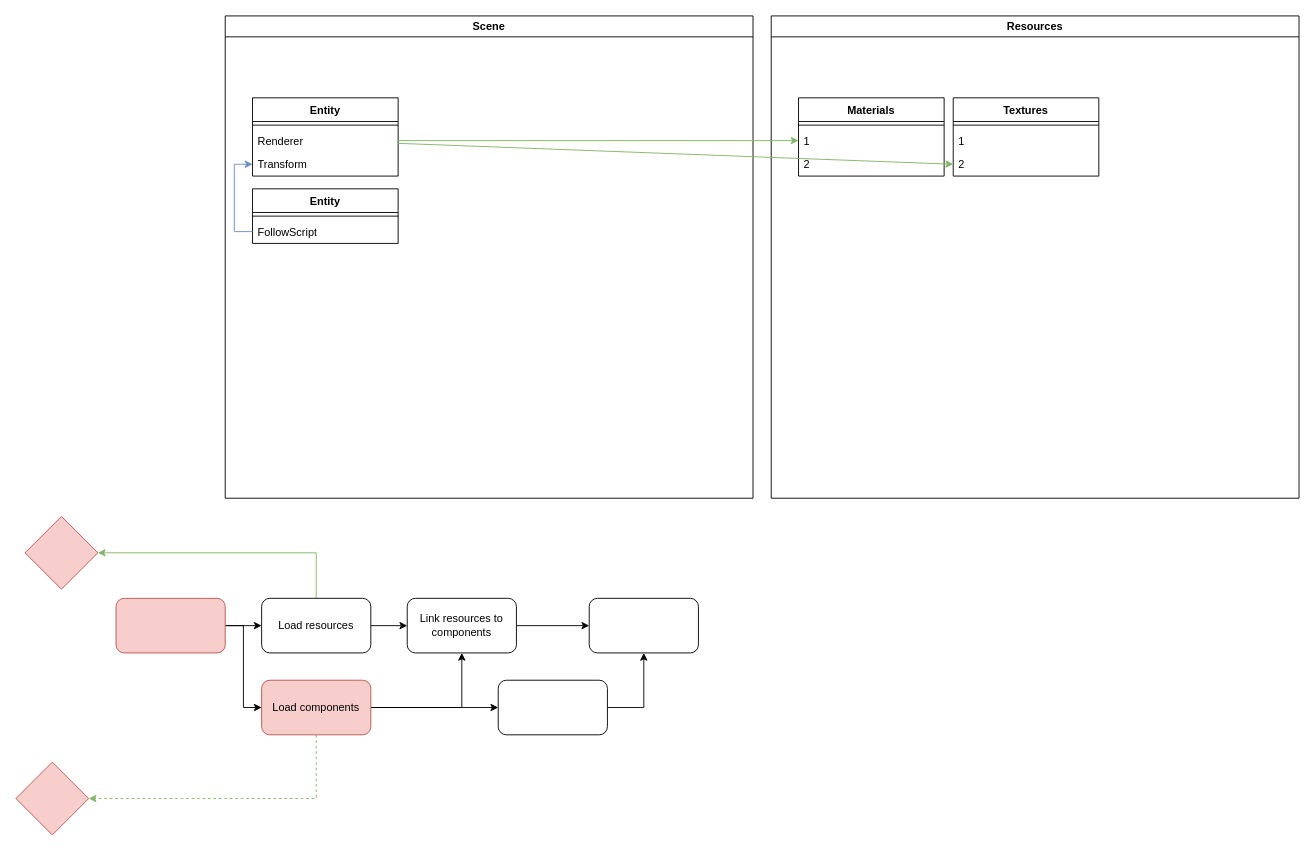
The diagram is 1315 pixels wide and 851 high, and some of its shapes have lost their labels. The centre of each missing label's shape, as x and y in pixels:
Done: point (643, 625)
ECS: point (52, 798)
Identify resources: point (170, 625)
Link components with each other: point (552, 707)
REGISTRY: point (61, 552)
